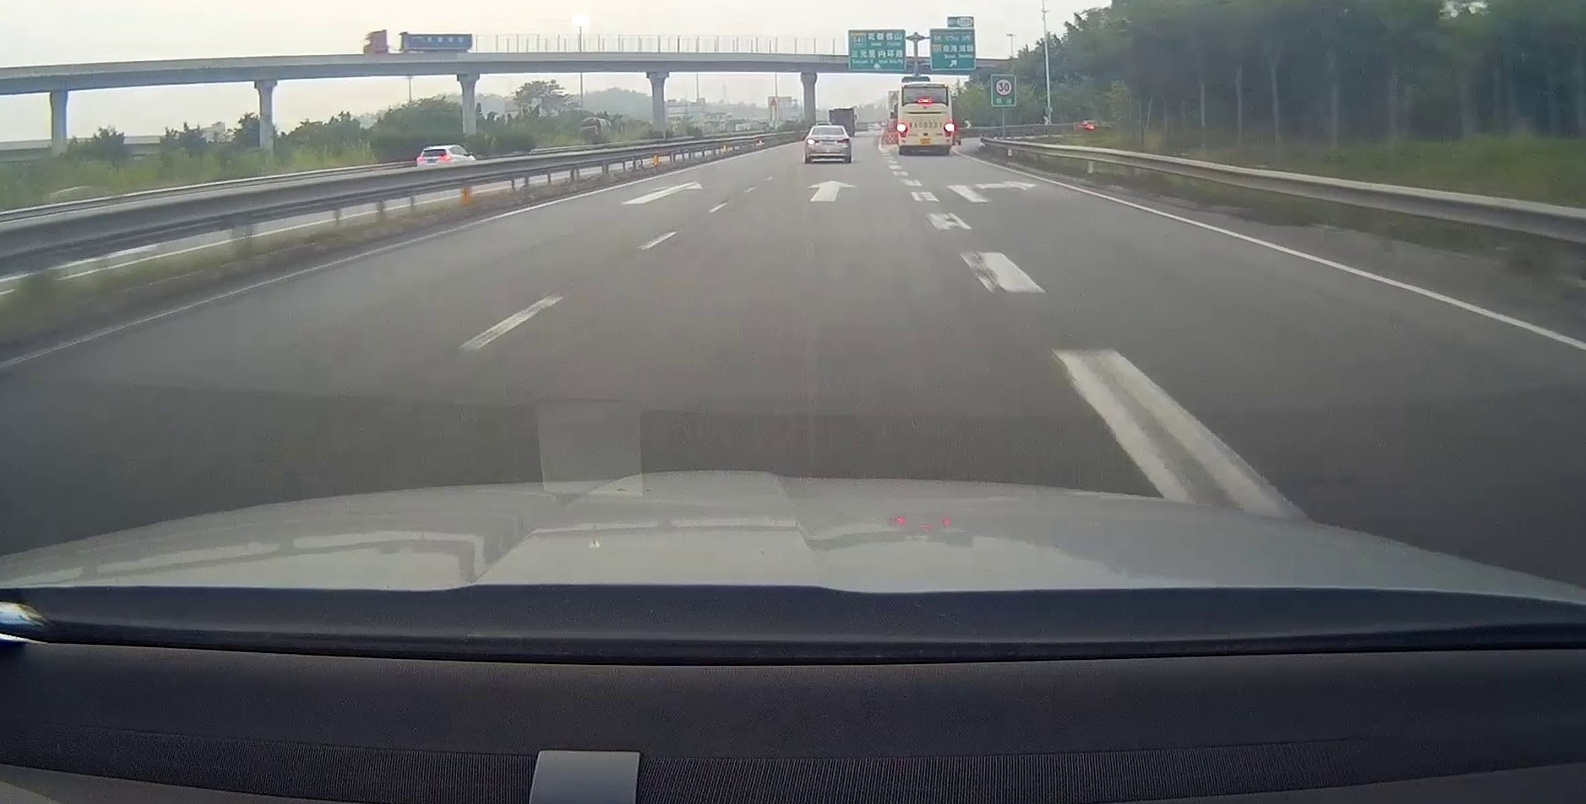L_light: (897, 123, 907, 137), (807, 138, 820, 144), (417, 157, 423, 164)
R_light: (945, 122, 953, 137), (443, 155, 450, 163), (837, 138, 849, 143)
T_light: (917, 98, 932, 102), (825, 128, 832, 130), (430, 150, 436, 151)
day-brake: (896, 81, 954, 156)
day-left: (805, 125, 851, 164)
day-no: (416, 146, 451, 177)
